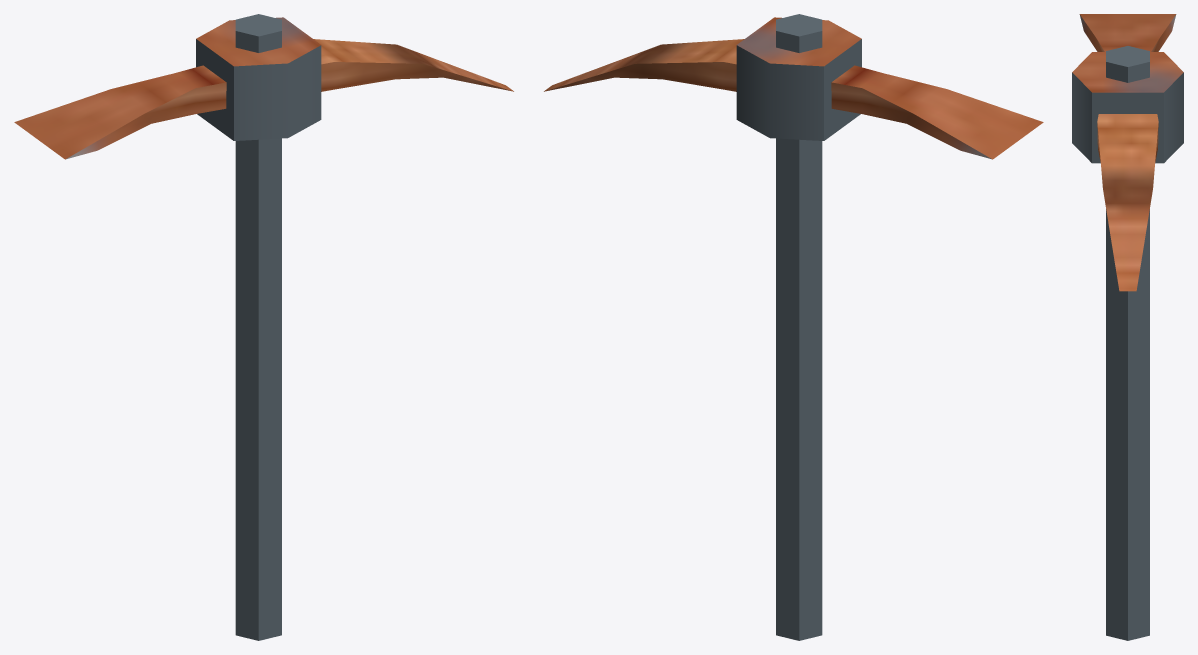
Rendered from tool.fbx.
3 views of the same model, side by side, from view 1: azimuth 30°, elevation 25°; view 2: azimuth 150°, elevation 25°; view 3: azimuth 270°, elevation 25° (orthographic). The views are drawn at different scales.
Parts seen in each view (by area): view 1: tool; view 2: tool; view 3: tool.
Part boxes in pixels (x1=…): tool: x1=14, y1=14, x2=513, y2=640; tool: x1=544, y1=14, x2=1043, y2=640; tool: x1=1072, y1=14, x2=1183, y2=640.
Bounding box in the file's own units: 5.37 × 6.59 × 1.16.
